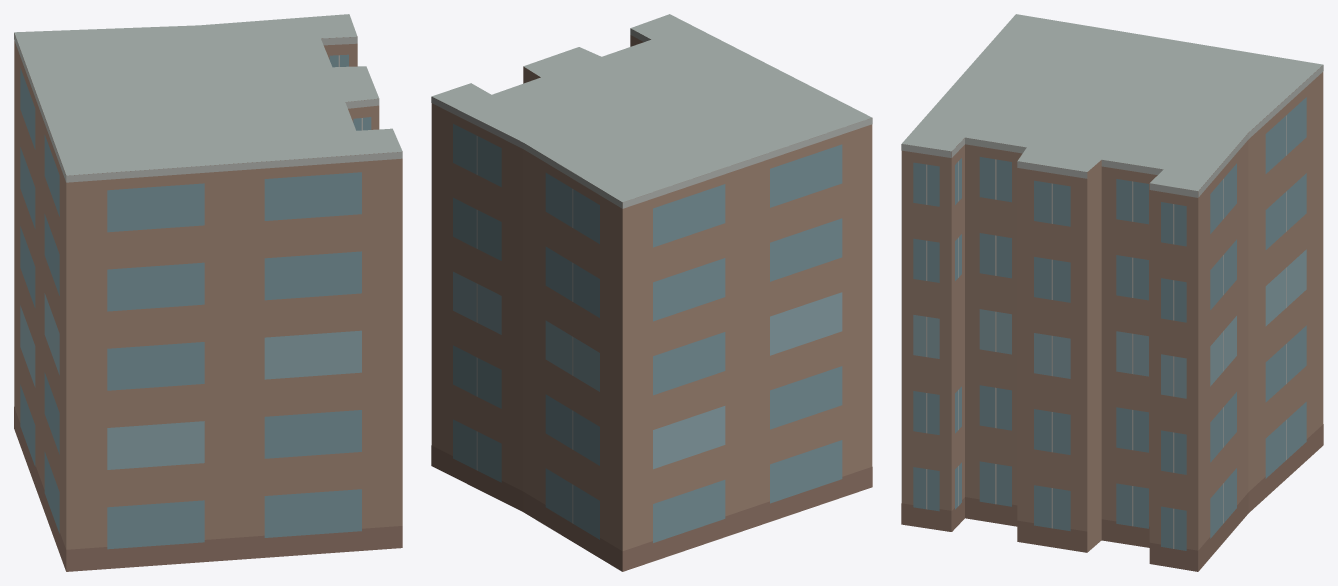
Rendered from survey-upis-33042156.glb.
3 views of the same model, side by side, from view 1: azimuth 30°, elevation 25°; view 2: azimuth 150°, elevation 25°; view 3: azimuth 270°, elevation 25° (orthographic). The views are drawn at different scales.
Visible parts, largest first — view 1: survey-upis-33042156.tmp; view 2: survey-upis-33042156.tmp; view 3: survey-upis-33042156.tmp.
Boxes of the visible parts, x1,y1,x2,y2 form: survey-upis-33042156.tmp: (14,14,402,571); survey-upis-33042156.tmp: (431,14,872,571); survey-upis-33042156.tmp: (901,14,1323,571).
Bounding box in the file's own units: 13.79 × 13.8 × 13.87.
